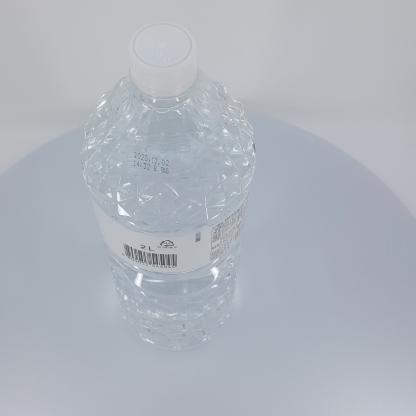--------------: (80, 21, 256, 351)
